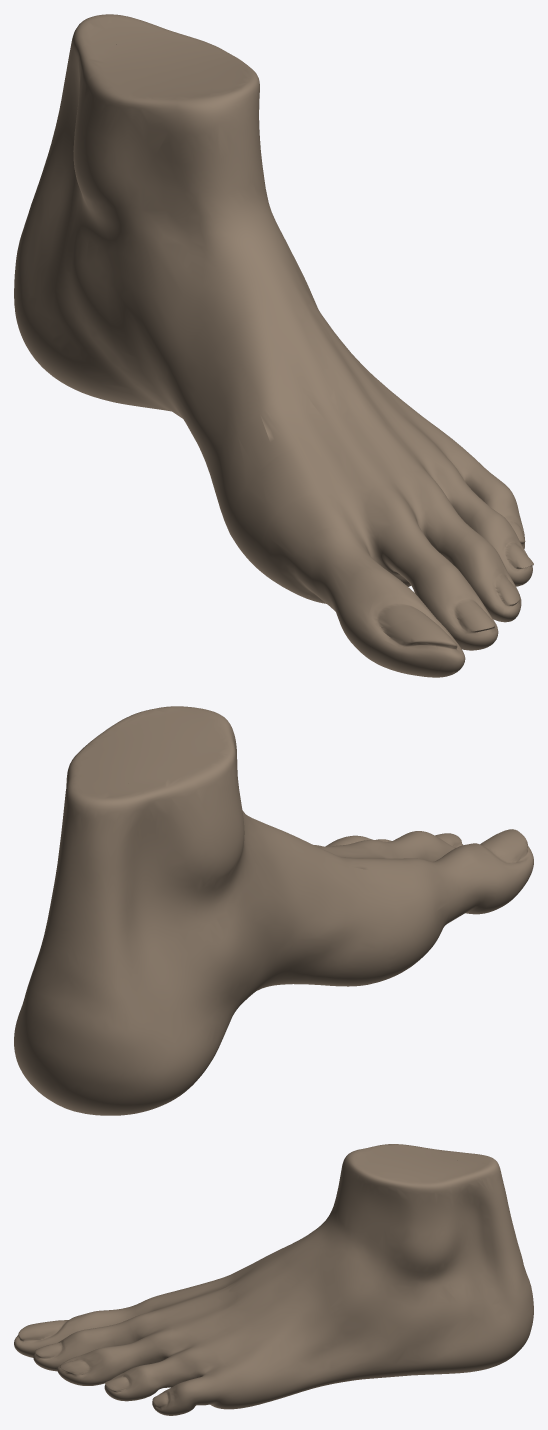
Rendered from foot.celtic.optimized.glb.
The picture shows the model from 3 angles, top to bottom: view 1: azimuth 30°, elevation 25°; view 2: azimuth 150°, elevation 25°; view 3: azimuth 270°, elevation 25°; orthographic projection. The views are drawn at different scales.
Parts seen in each view (by area): view 1: Foot_Celtic; view 2: Foot_Celtic; view 3: Foot_Celtic.
Boxes of the visible parts, x1=… form: Foot_Celtic: x1=14, y1=14, x2=533, y2=677; Foot_Celtic: x1=14, y1=706, x2=533, y2=1115; Foot_Celtic: x1=14, y1=1144, x2=533, y2=1415.
Size of the model in its own units: 2.64 by 3.65 by 7.84.
